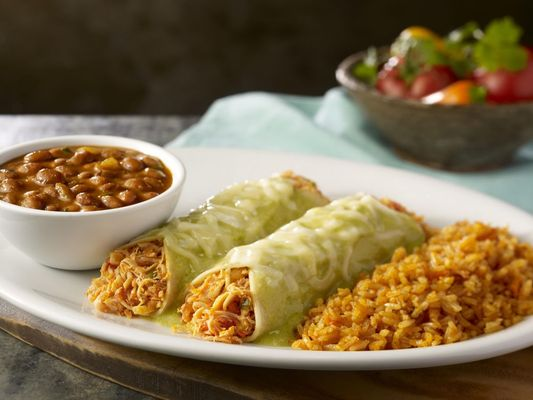sushi: (335, 17, 533, 174), (0, 134, 186, 271)
